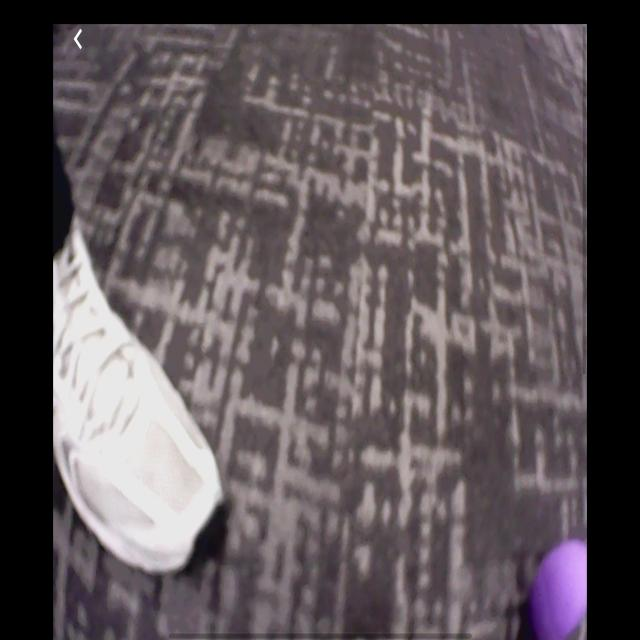ball: (531, 539, 587, 640)
